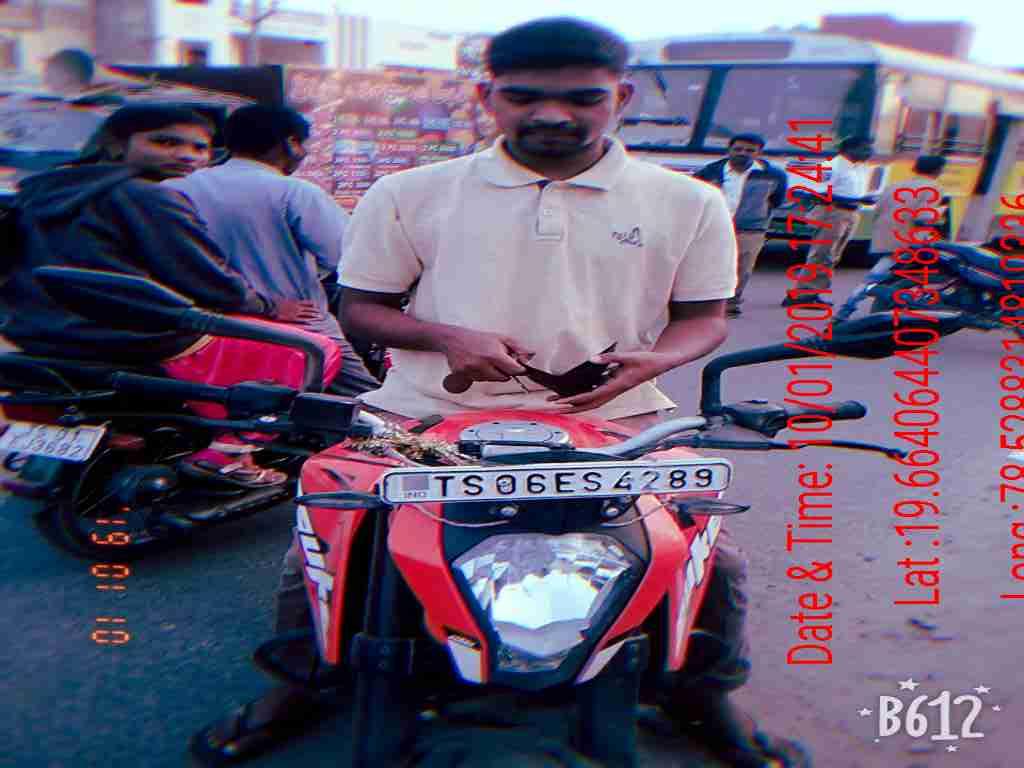plate: (375, 458, 744, 500), (1, 418, 108, 469)
